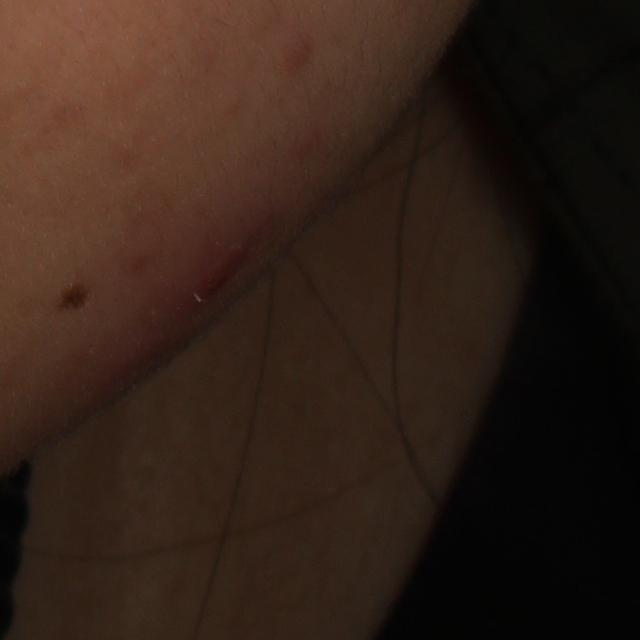nevus: (51, 278, 95, 316)
